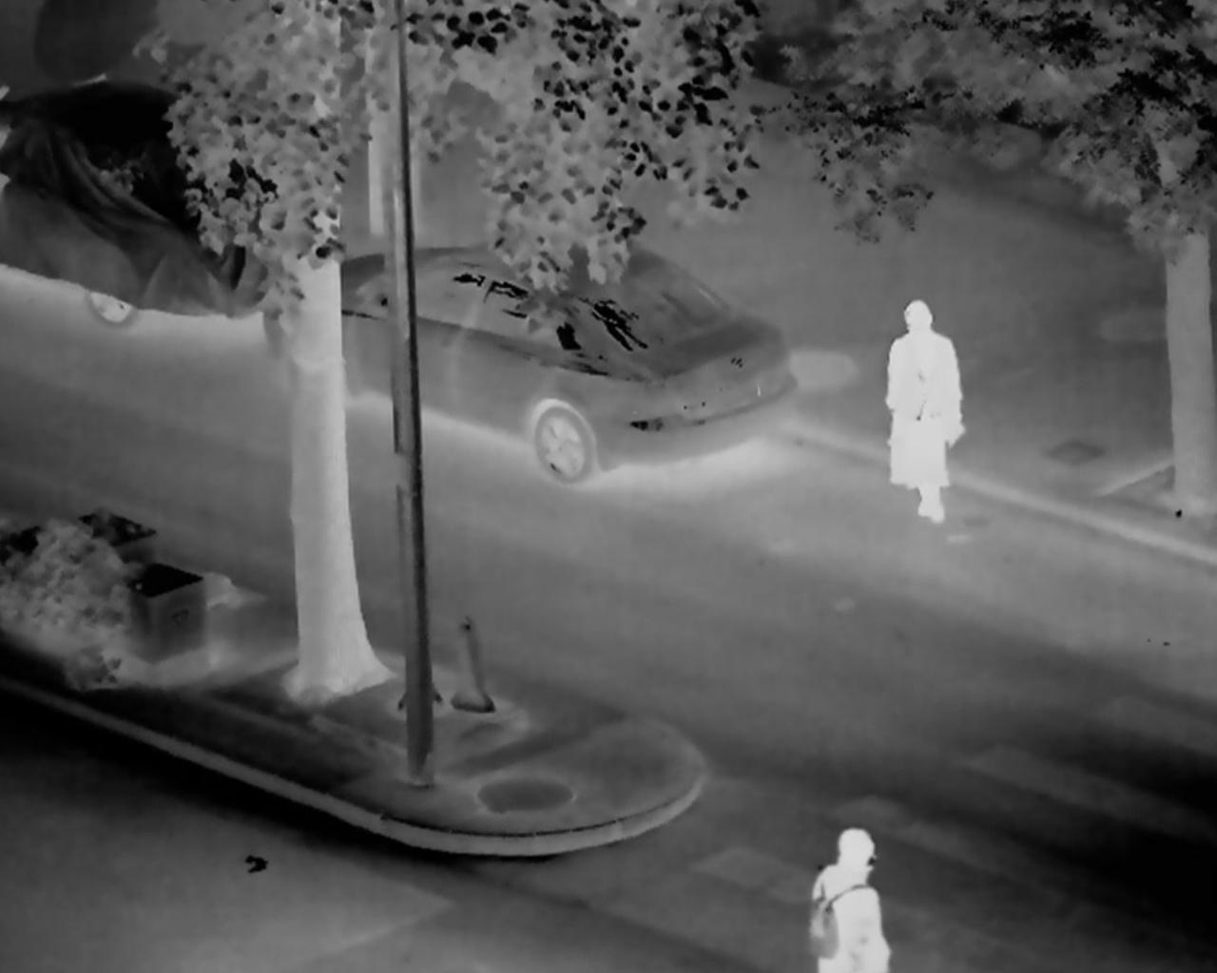person: (877, 278, 976, 538), (804, 813, 900, 973)
